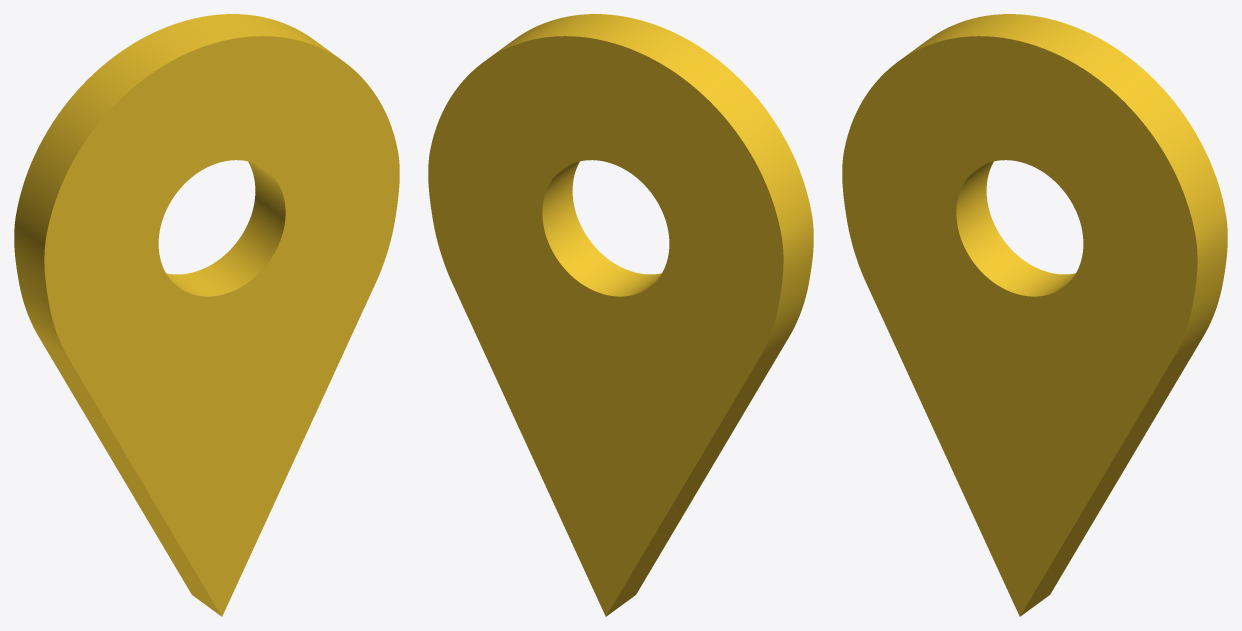
The model's file is pin.fbx.
3 renders of one model, left to right at view 1: azimuth 30°, elevation 25°; view 2: azimuth 150°, elevation 25°; view 3: azimuth 330°, elevation 25°, orthographic.
Visible parts, largest first — view 1: Circle001; view 2: Circle001; view 3: Circle001.
Boxes of the visible parts, box(x1,y1,x2,y2) form: Circle001: box(14, 14, 399, 616); Circle001: box(428, 14, 813, 616); Circle001: box(842, 14, 1227, 616).
Bounding box in the file's own units: 1358 × 2102 × 200.
